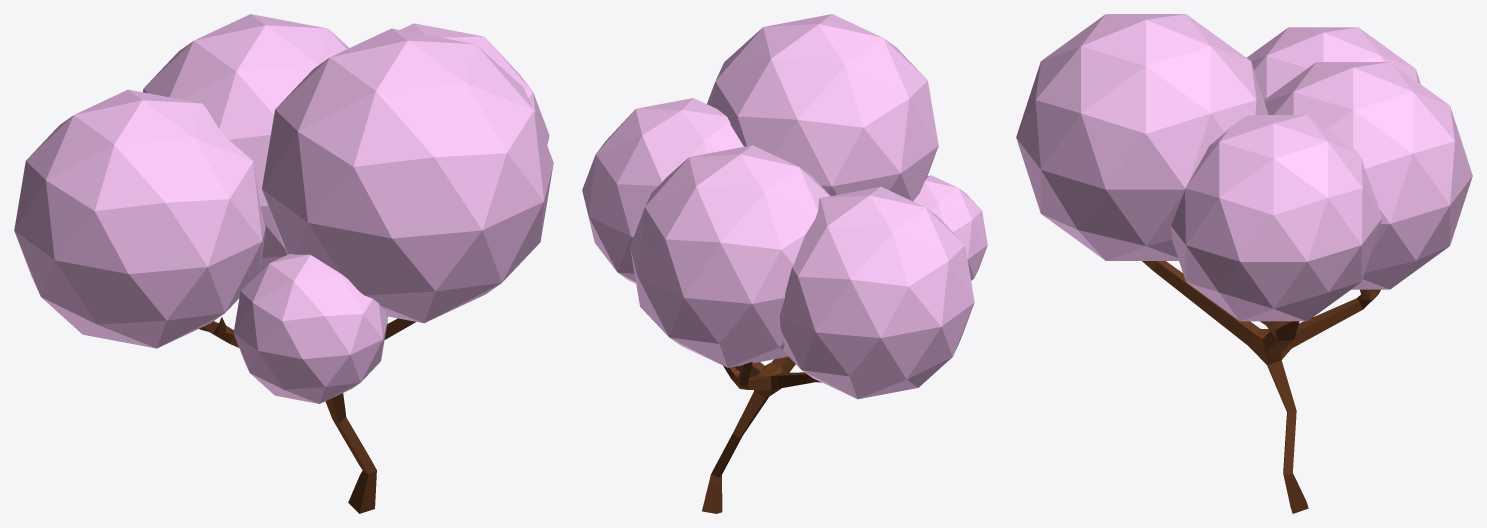
The model's file is pinktree.fbx.
3 views of the same model, side by side, from view 1: azimuth 30°, elevation 25°; view 2: azimuth 150°, elevation 25°; view 3: azimuth 270°, elevation 25° (orthographic). The views are drawn at different scales.
Visible parts, largest first — view 1: Icosphere.002, Icosphere.006, Icosphere.004, Icosphere.001, Cube, Icosphere.003; view 2: Icosphere.006, Icosphere.001, Icosphere.002, Icosphere.003, Cube, Icosphere.004; view 3: Icosphere.002, Icosphere.003, Icosphere.001, Cube, Icosphere.006.
Boxes of the visible parts, x1,y1,x2,y2 form: Icosphere.002: [262, 28, 553, 323]; Icosphere.006: [14, 89, 265, 348]; Icosphere.004: [233, 254, 387, 403]; Icosphere.001: [143, 14, 349, 269]; Cube: [199, 316, 415, 513]; Icosphere.003: [400, 23, 549, 144]; Icosphere.006: [779, 186, 974, 399]; Icosphere.001: [630, 145, 830, 367]; Icosphere.002: [707, 14, 938, 201]; Icosphere.003: [582, 98, 743, 283]; Cube: [702, 356, 821, 513]; Icosphere.004: [913, 175, 987, 280]; Icosphere.002: [1016, 14, 1268, 260]; Icosphere.003: [1171, 115, 1382, 321]; Icosphere.001: [1264, 62, 1472, 289]; Cube: [1142, 261, 1380, 513]; Icosphere.006: [1247, 27, 1420, 99].
Bounding box in the file's own units: 2581 × 2863 × 2509.
